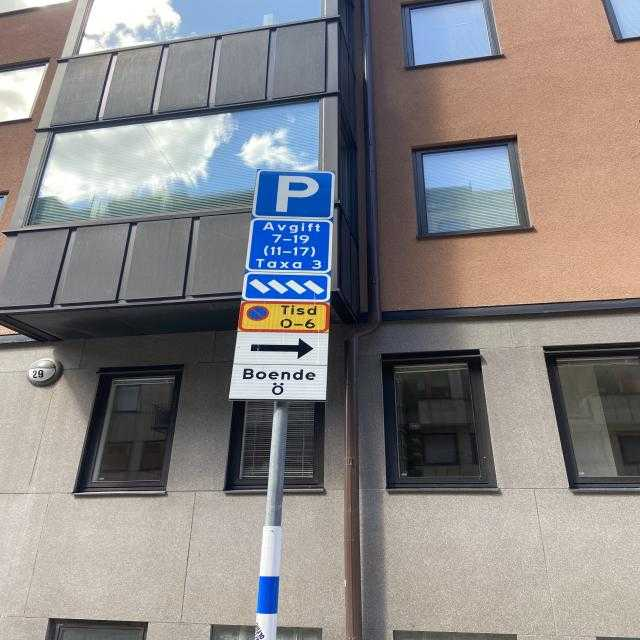lastplats: (252, 168, 334, 220)
